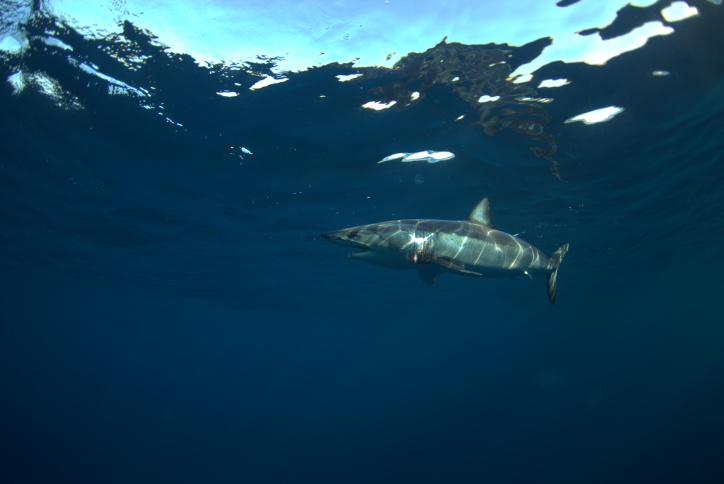Mako: (311, 194, 586, 314)
